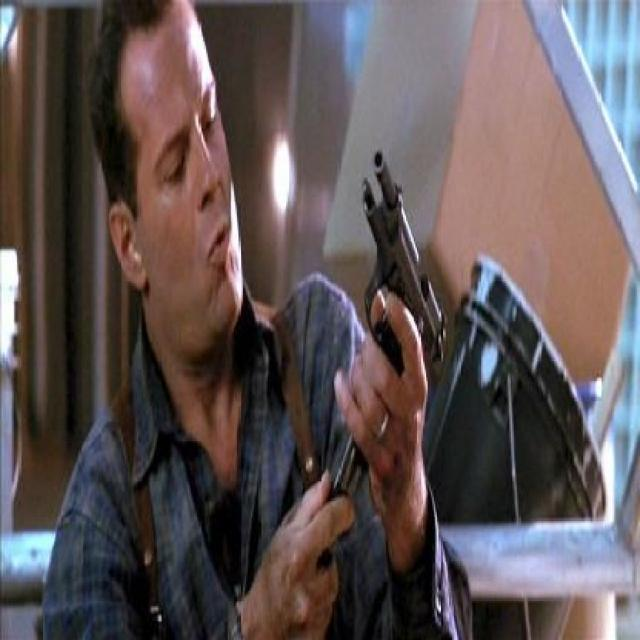Pistol: (292, 131, 458, 520)
